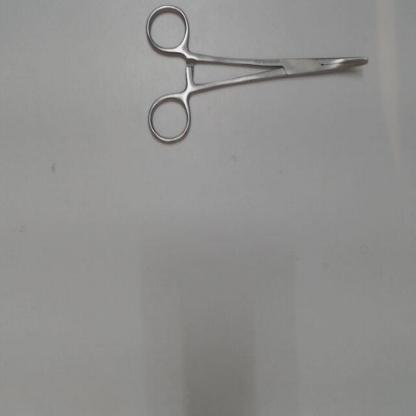Crile Artery Forceps: (144, 2, 376, 146)
